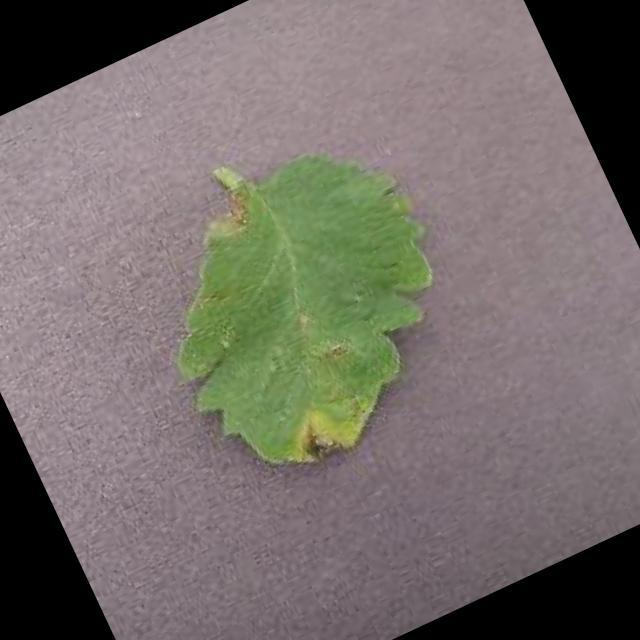Tomato late blight leaf: (119, 118, 507, 510)
